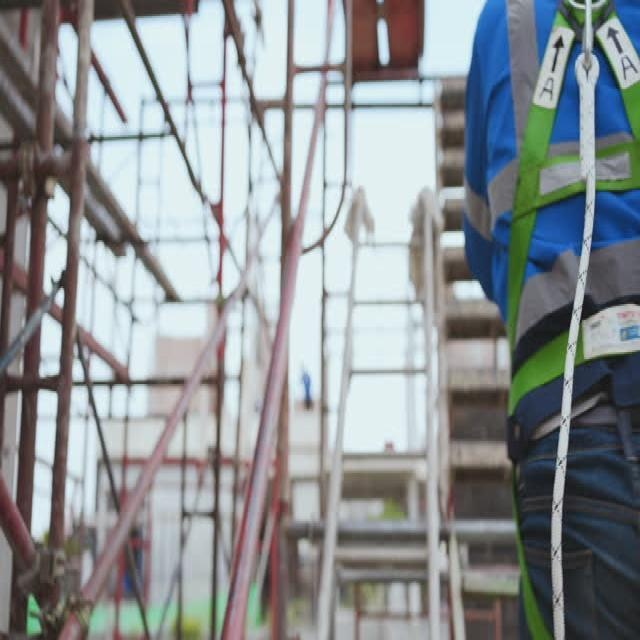Arnes_seguridad: (498, 0, 640, 632)
